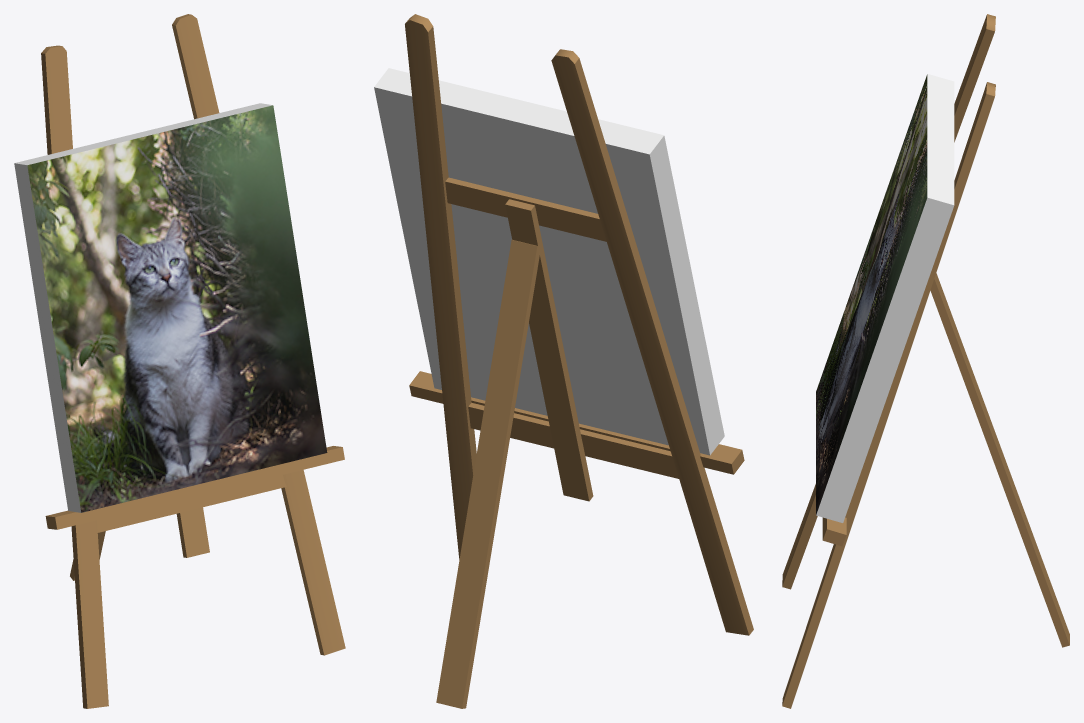
File: ajoumeo_4.fbx
The picture shows the model from 3 angles, left to right: view 1: azimuth 30°, elevation 25°; view 2: azimuth 150°, elevation 25°; view 3: azimuth 270°, elevation 25°; orthographic projection. The views are drawn at different scales.
Visible parts, largest first — view 1: ajoumeo_04; view 2: ajoumeo_04; view 3: ajoumeo_04.
Boxes of the visible parts, x1,y1,x2,y2 form: ajoumeo_04: (14, 14, 345, 708); ajoumeo_04: (374, 14, 753, 708); ajoumeo_04: (782, 14, 1069, 708).
Size of the model in its own units: 0.0762 by 0.1469 by 0.064.
Materials: 1 (1 with a texture image).
